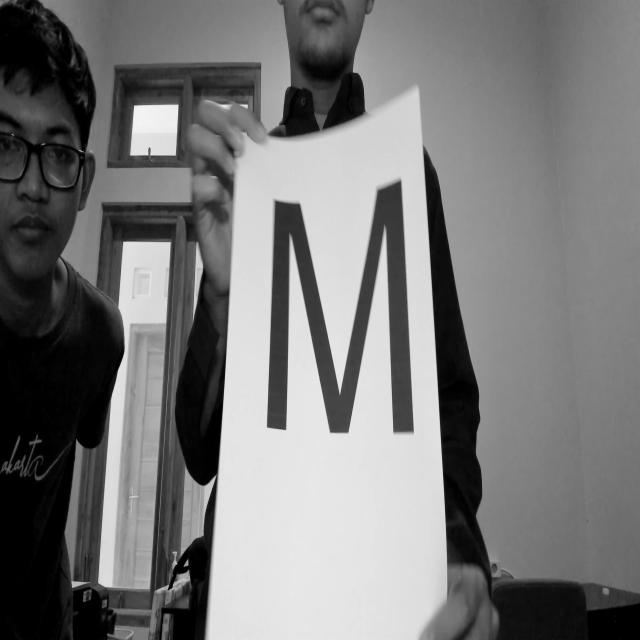m: (237, 176, 429, 473)
